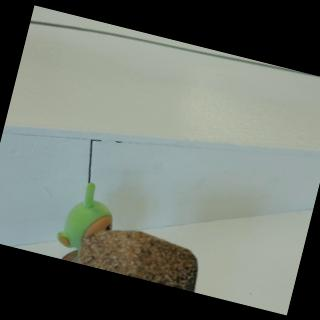teletubby: (57, 183, 111, 249)
